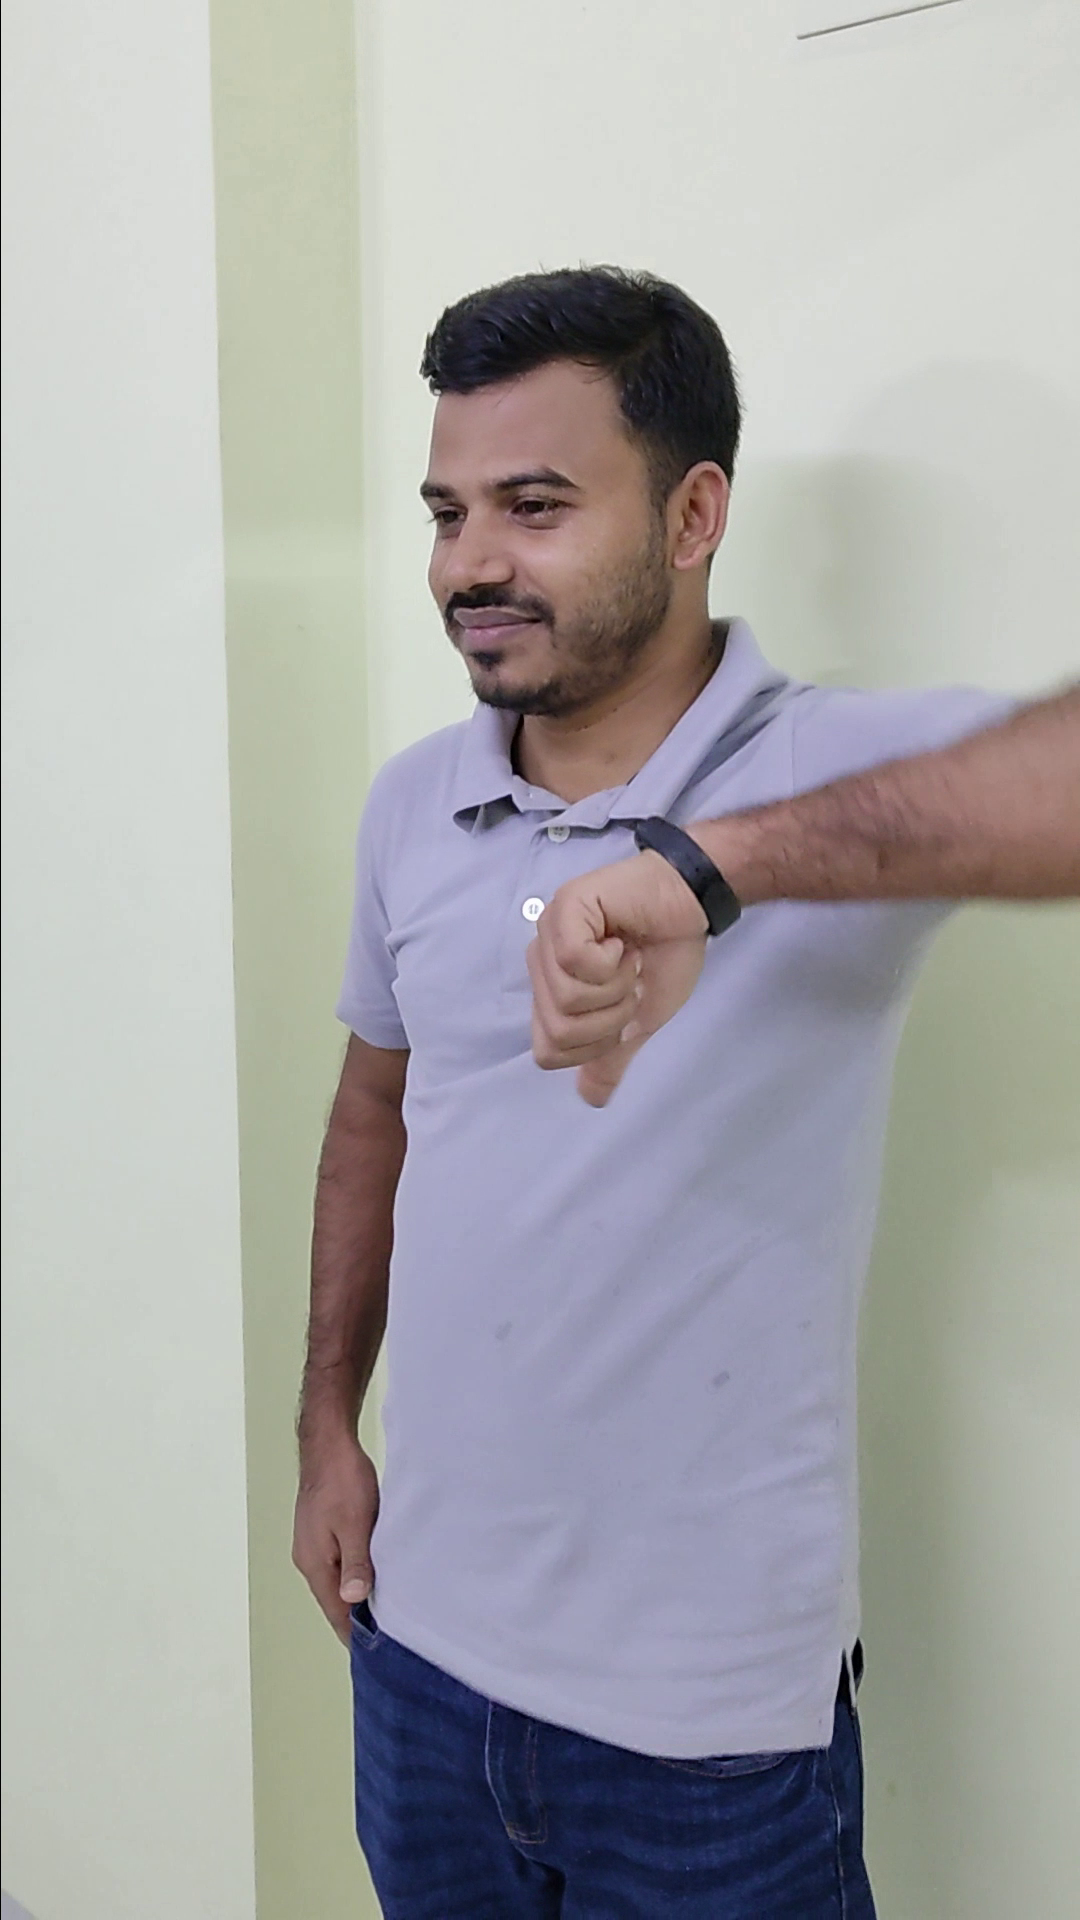Dislike: (501, 818, 758, 1120)
None: (262, 1378, 409, 1671)
